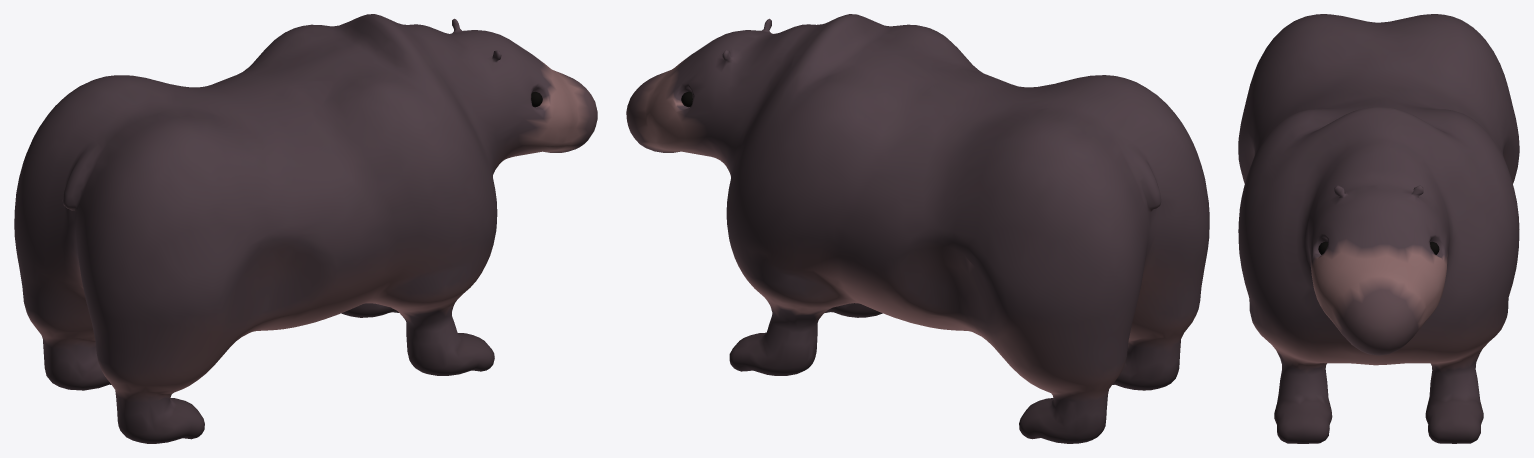
Rendered from hippo.glb.
3 renders of one model, left to right at view 1: azimuth 30°, elevation 25°; view 2: azimuth 150°, elevation 25°; view 3: azimuth 270°, elevation 25°, orthographic. The views are drawn at different scales.
Parts seen in each view (by area): view 1: hippo; view 2: hippo; view 3: hippo.
Boxes of the visible parts, x1,y1,x2,y2 form: hippo: (14, 14, 597, 443); hippo: (626, 14, 1209, 443); hippo: (1238, 14, 1519, 443).
Bounding box in the file's own units: 1.54 × 0.9006 × 0.7369.
